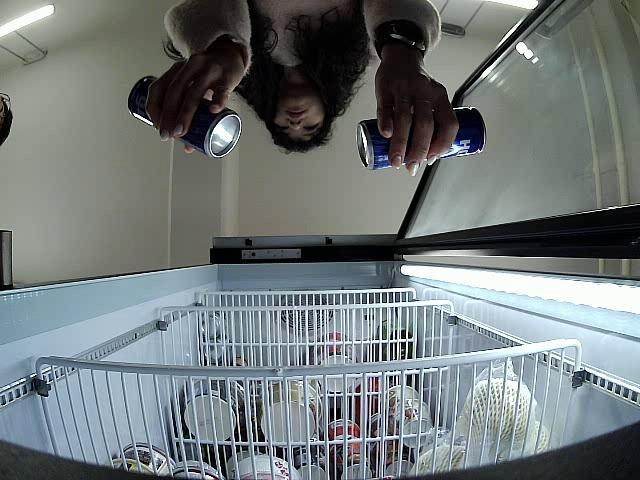00_hand: (375, 44, 459, 176), (147, 44, 245, 155)
16_hot6: (127, 74, 243, 159), (357, 106, 488, 171)
